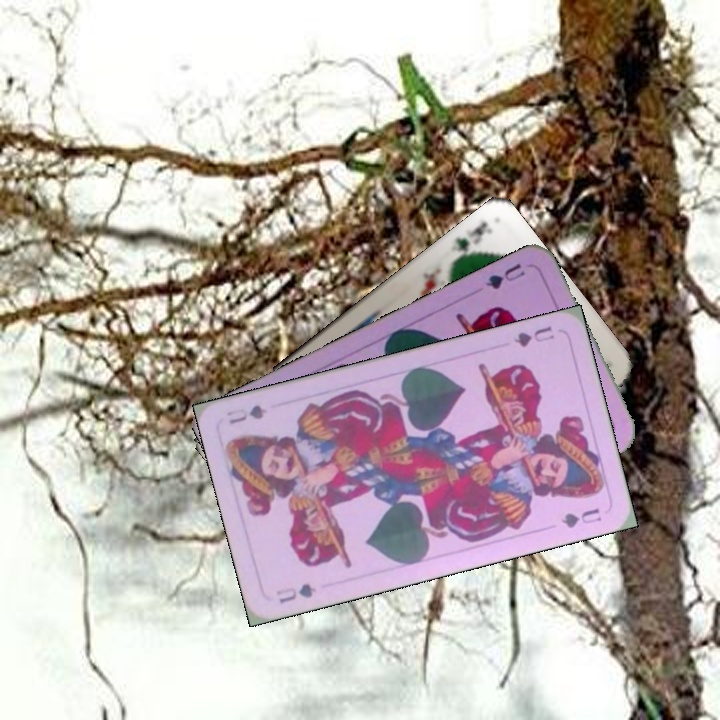GK: (446, 217, 495, 265)
GU: (481, 259, 528, 292), (509, 322, 557, 350), (272, 579, 319, 606)
